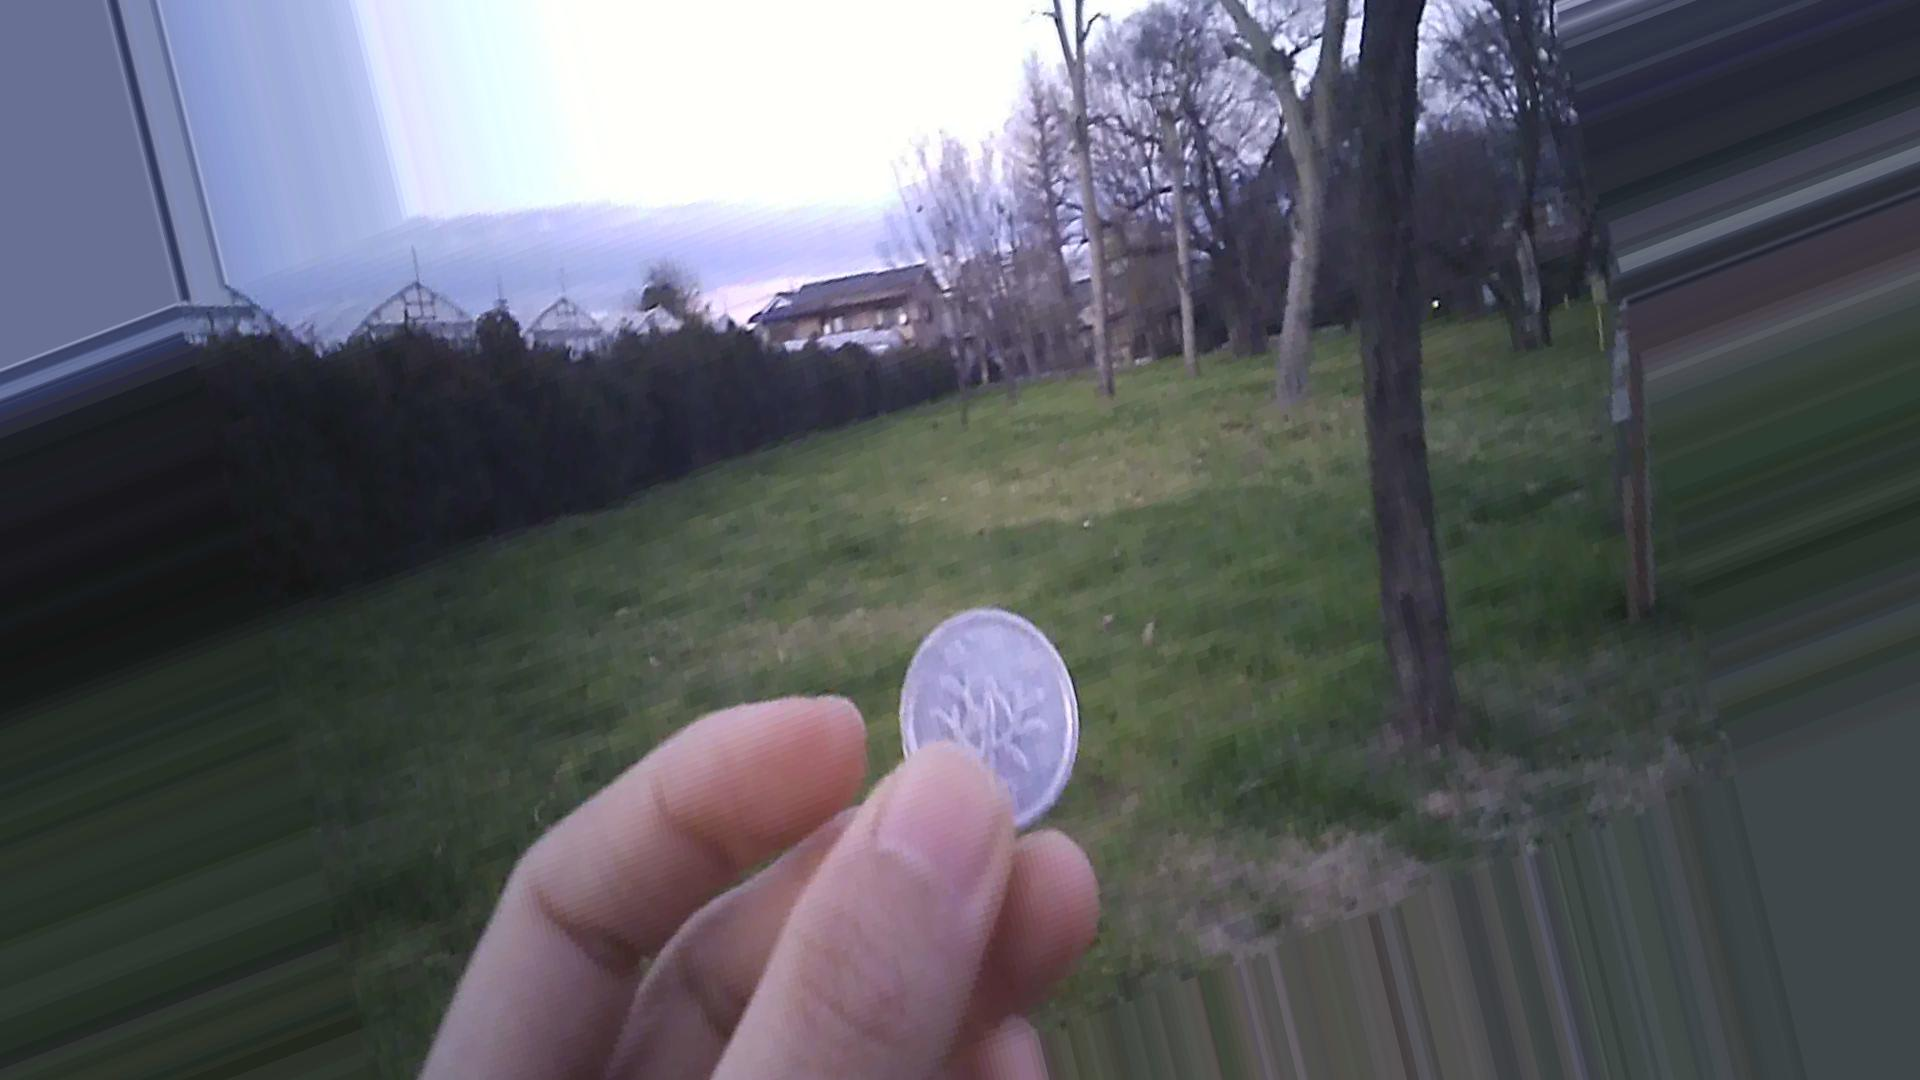1 Yen: (895, 597, 1077, 831)
